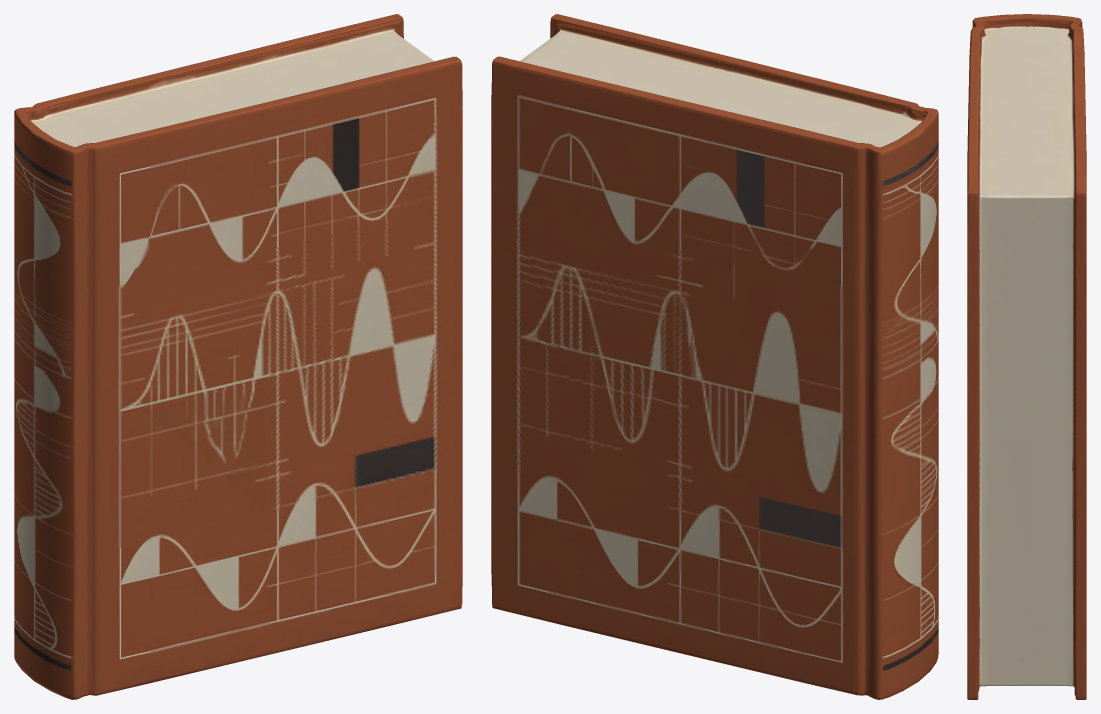
Rendered from the-art-of-doing-science-and-engineering.glb.
3 renders of one model, left to right at view 1: azimuth 30°, elevation 25°; view 2: azimuth 150°, elevation 25°; view 3: azimuth 270°, elevation 25°, orthographic. The views are drawn at different scales.
Visible parts, largest first — view 1: The Art of Doing Science and Engineering; view 2: The Art of Doing Science and Engineering; view 3: The Art of Doing Science and Engineering.
Boxes of the visible parts, left/top/right/bottom form: The Art of Doing Science and Engineering: left=14, top=14, right=462, bottom=699; The Art of Doing Science and Engineering: left=491, top=14, right=938, bottom=699; The Art of Doing Science and Engineering: left=967, top=14, right=1086, bottom=699.
Bounding box in the file's own units: 0.7559 × 0.998 × 0.2129.
Materials: 1 (1 with a texture image).
